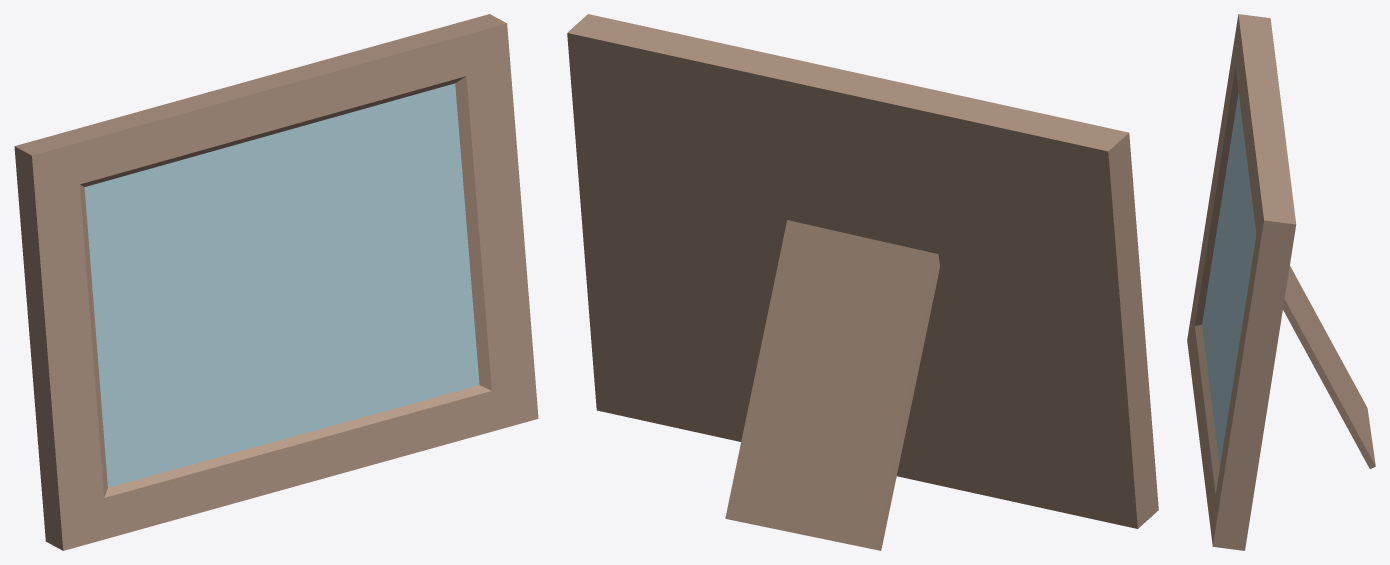
Rendered from Photoframe_5.fbx.
3 renders of one model, left to right at view 1: azimuth 30°, elevation 25°; view 2: azimuth 150°, elevation 25°; view 3: azimuth 270°, elevation 25°, orthographic. The views are drawn at different scales.
Visible parts, largest first — view 1: Photoframe_5; view 2: Photoframe_5; view 3: Photoframe_5.
Part boxes in pixels (bbox=[...]): Photoframe_5: bbox=[14, 14, 538, 550]; Photoframe_5: bbox=[567, 14, 1158, 550]; Photoframe_5: bbox=[1187, 14, 1375, 550].
Size of the model in its own units: 33.77 by 12.87 by 24.9.
